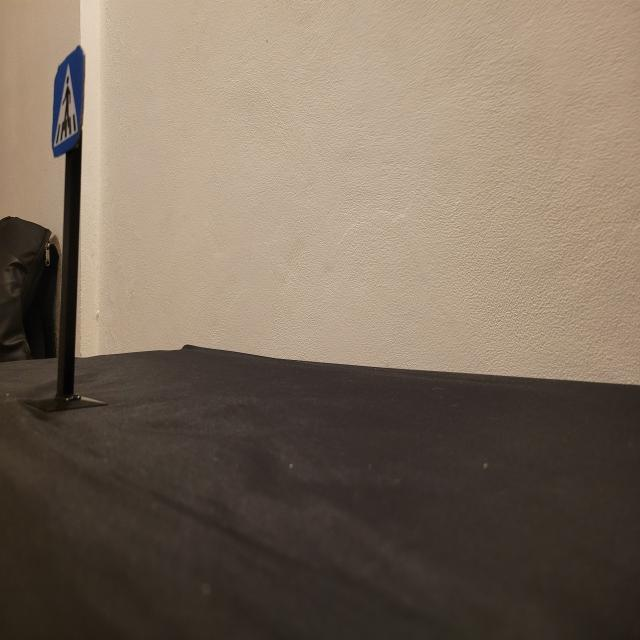crosswalk: (49, 46, 88, 162)
